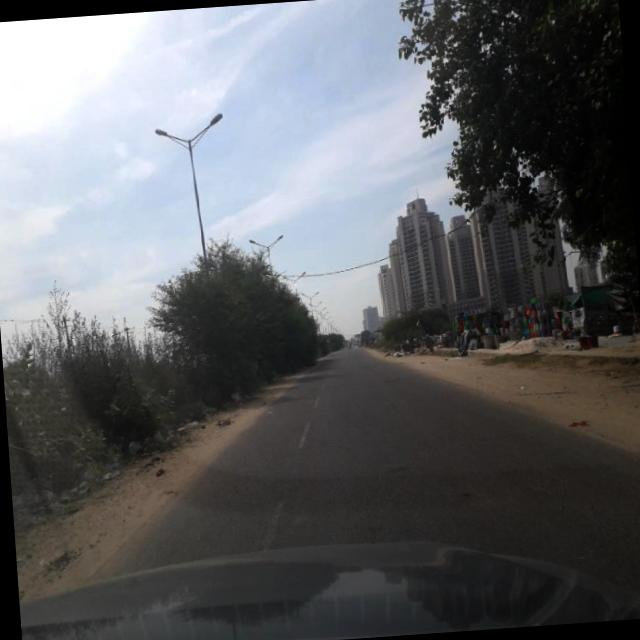crack: (187, 385, 640, 595)
